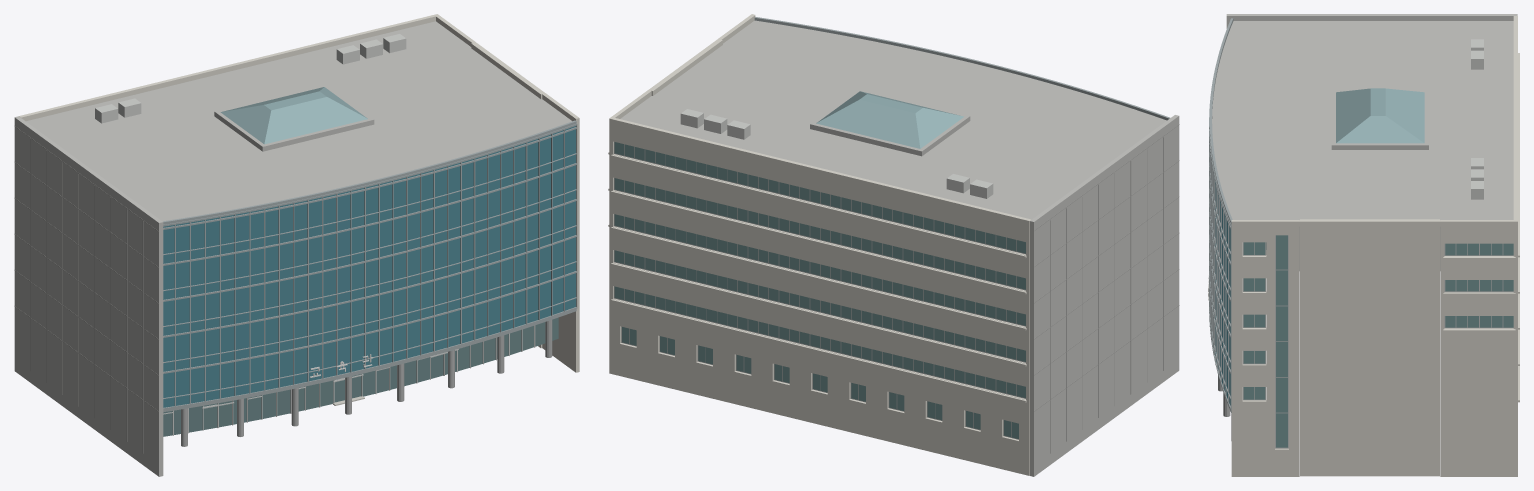
3 renders of one model, left to right at view 1: azimuth 30°, elevation 25°; view 2: azimuth 150°, elevation 25°; view 3: azimuth 270°, elevation 25°, orthographic.
Visible parts, largest first — view 1: w451562732__cw-glass, w451562732__roof, w451562732__panel-wall, w451562732__cw-frame, w451562732__lobby-glass, w451562732__paint-wall, w451562732__sky-glass, w451562732__joint, w451562732__column, w451562732__ac, w451562732__frame; view 2: w451562732__paint-wall, w451562732__roof, w451562732__panel-wall, w451562732__glass, w451562732__frame, w451562732__sky-glass, w451562732__joint, w451562732__cw-frame, w451562732__ac; view 3: w451562732__paint-wall, w451562732__roof, w451562732__glass, w451562732__cw-frame, w451562732__sky-glass, w451562732__panel-wall, w451562732__frame, w451562732__cw-glass, w451562732__ac.
Part boxes in pixels (x1,y1,x2,y2): w451562732__cw-glass: [163, 126, 575, 407]; w451562732__roof: [26, 21, 571, 221]; w451562732__panel-wall: [14, 116, 163, 476]; w451562732__cw-frame: [163, 120, 577, 412]; w451562732__lobby-glass: [163, 317, 558, 436]; w451562732__paint-wall: [19, 14, 579, 372]; w451562732__sky-glass: [220, 87, 367, 144]; w451562732__joint: [14, 126, 158, 453]; w451562732__column: [181, 320, 552, 446]; w451562732__ac: [95, 34, 406, 123]; w451562732__frame: [163, 325, 535, 435]; w451562732__paint-wall: [608, 14, 1031, 475]; w451562732__roof: [620, 20, 1166, 219]; w451562732__panel-wall: [1030, 115, 1179, 476]; w451562732__glass: [614, 142, 1025, 438]; w451562732__frame: [614, 142, 1025, 439]; w451562732__sky-glass: [816, 91, 963, 148]; w451562732__joint: [1034, 124, 1179, 453]; w451562732__cw-frame: [754, 17, 1170, 120]; w451562732__ac: [680, 109, 993, 198]; w451562732__paint-wall: [1231, 16, 1519, 476]; w451562732__roof: [1212, 21, 1513, 228]; w451562732__glass: [1243, 235, 1513, 447]; w451562732__cw-frame: [1209, 18, 1233, 412]; w451562732__sky-glass: [1336, 88, 1424, 143]; w451562732__panel-wall: [1226, 14, 1517, 270]; w451562732__frame: [1243, 235, 1513, 448]; w451562732__cw-glass: [1215, 182, 1230, 405]; w451562732__ac: [1471, 39, 1483, 199].
Bounding box in the file's own units: 45.73 × 27.7 × 28.9.
